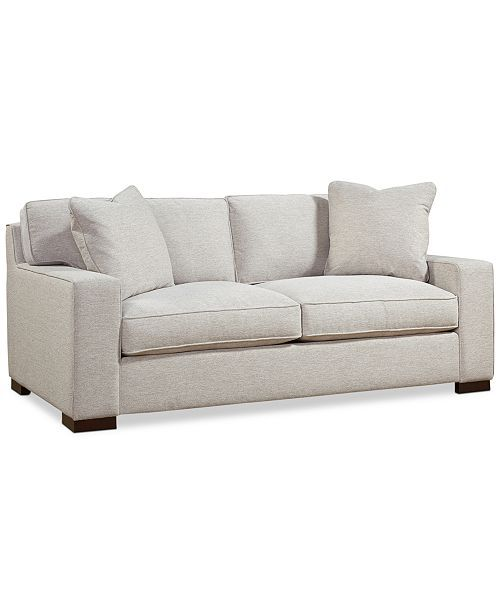chairs: (1, 180, 498, 437)
